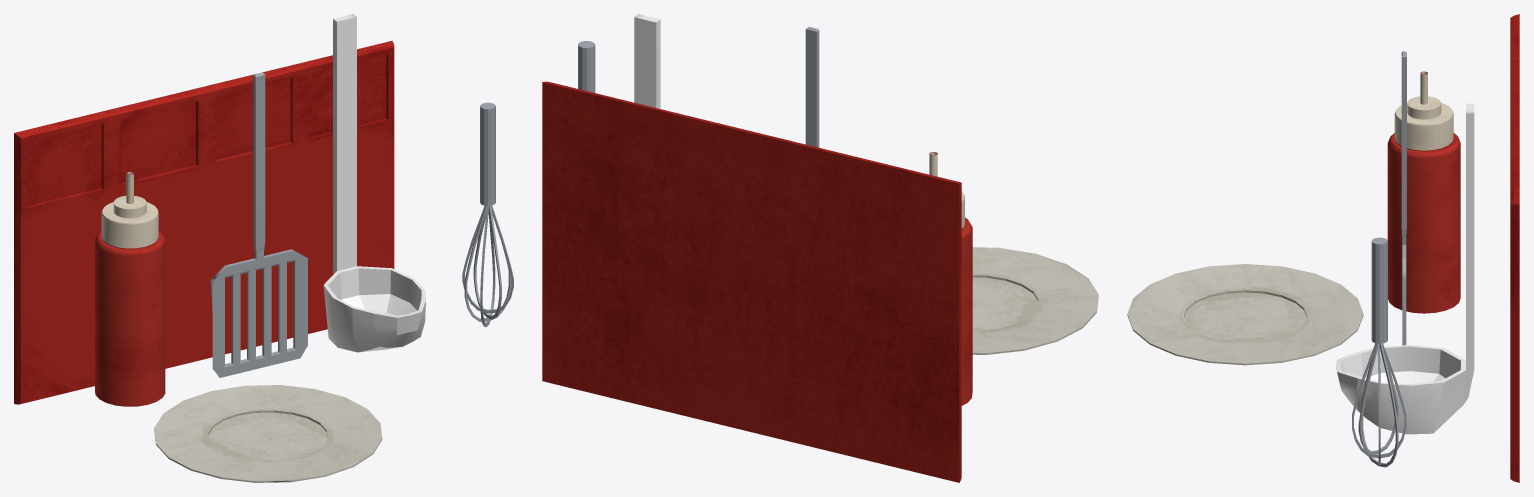
The model's file is utensil_set.glb.
3 views of the same model, side by side, from view 1: azimuth 30°, elevation 25°; view 2: azimuth 150°, elevation 25°; view 3: azimuth 270°, elevation 25° (orthographic). The views are drawn at different scales.
Visible parts, largest first — view 1: chopping_board1:pCube1, plate:pCylinder1, Ketchup_Bottle:pCylinder1, ladle:pCube3, spatula1:pCube3, pCylinder1, pCube7, pCube9, pCube8, pCube6; view 2: chopping_board1:pCube1, plate:pCylinder1, Ketchup_Bottle:pCylinder1, ladle:pCube3, spatula1:pCube3, pCylinder1; view 3: plate:pCylinder1, Ketchup_Bottle:pCylinder1, ladle:pCube3, chopping_board1:pCube1, pCylinder1, spatula1:pCube3, pCube7, pCube9, pCube8.
Boxes of the visible parts, x1,y1,x2,y2 form: chopping_board1:pCube1: (14,41,394,404); plate:pCylinder1: (154,385,382,482); Ketchup_Bottle:pCylinder1: (94,171,165,406); ladle:pCube3: (323,14,425,352); spatula1:pCube3: (210,72,307,377); pCylinder1: (480,102,495,205); pCube7: (473,205,501,319); pCube9: (462,205,513,313); pCube8: (480,206,495,327); pCube6: (464,205,511,321); chopping_board1:pCube1: (542,81,961,482); plate:pCylinder1: (972,247,1098,354); Ketchup_Bottle:pCylinder1: (929,152,972,405); ladle:pCube3: (634,14,660,108); spatula1:pCube3: (805,26,819,147); pCylinder1: (578,41,595,92); plate:pCylinder1: (1127,264,1363,365); Ketchup_Bottle:pCylinder1: (1387,71,1460,313); ladle:pCube3: (1335,103,1474,434); chopping_board1:pCube1: (1510,14,1519,482); pCylinder1: (1371,237,1387,343); spatula1:pCube3: (1401,51,1406,345); pCube7: (1352,343,1406,458); pCube9: (1358,343,1398,454); pCube8: (1361,343,1398,467).
Size of the model in its own units: 2.42 by 1.77 by 1.86.
Materials: 7 (7 with a texture image).
